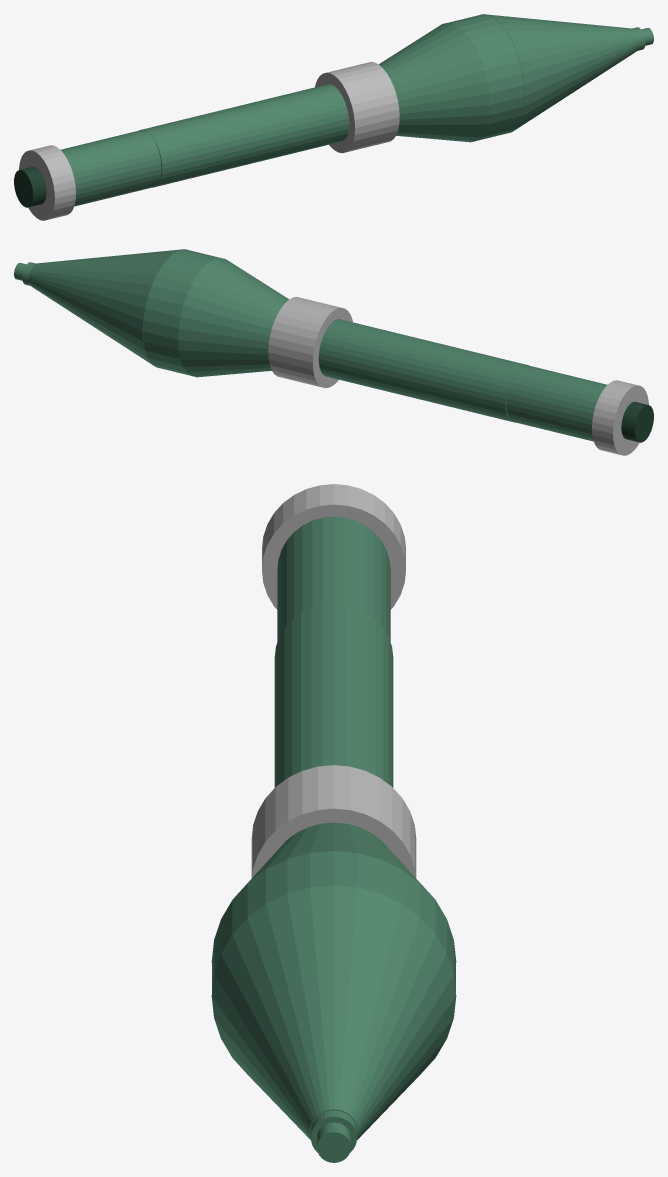
The model's file is rocket.fbx.
The picture shows the model from 3 angles, top to bottom: view 1: azimuth 30°, elevation 25°; view 2: azimuth 150°, elevation 25°; view 3: azimuth 270°, elevation 25°; orthographic projection. The views are drawn at different scales.
Parts seen in each view (by area): view 1: Cylinder.006, Cylinder.008, Cylinder, Cylinder.002, Cylinder.003, Cylinder.007, Cylinder.001, Cylinder.004, Cylinder.005; view 2: Cylinder.006, Cylinder.008, Cylinder, Cylinder.002, Cylinder.003, Cylinder.007, Cylinder.001, Cylinder.004, Cylinder.005; view 3: Cylinder.008, Cylinder, Cylinder.003, Cylinder.002, Cylinder.007, Cylinder.001, Cylinder.004, Cylinder.006, Cylinder.010.
Boxes of the visible parts, x1,y1,x2,y2 form: Cylinder.006: [379, 23, 489, 142]; Cylinder.008: [484, 14, 638, 131]; Cylinder: [209, 84, 349, 170]; Cylinder.002: [60, 130, 161, 206]; Cylinder.003: [315, 62, 399, 153]; Cylinder.007: [448, 14, 524, 140]; Cylinder.001: [139, 113, 229, 187]; Cylinder.004: [19, 145, 75, 220]; Cylinder.005: [14, 166, 46, 207]; Cylinder.006: [178, 258, 288, 377]; Cylinder.008: [29, 249, 183, 366]; Cylinder: [318, 319, 458, 405]; Cylinder.002: [506, 365, 607, 441]; Cylinder.003: [268, 297, 352, 388]; Cylinder.007: [143, 249, 219, 375]; Cylinder.001: [438, 348, 528, 422]; Cylinder.004: [592, 380, 648, 455]; Cylinder.005: [621, 401, 653, 442]; Cylinder.008: [211, 885, 456, 1139]; Cylinder: [274, 669, 393, 787]; Cylinder.003: [251, 765, 416, 877]; Cylinder.002: [277, 516, 390, 641]; Cylinder.007: [212, 850, 455, 991]; Cylinder.001: [274, 603, 393, 721]; Cylinder.004: [262, 484, 405, 609]; Cylinder.006: [211, 822, 456, 962]; Cylinder.010: [317, 1122, 350, 1162].
Bounding box in the file's own units: 281 × 47.46 × 47.46.
